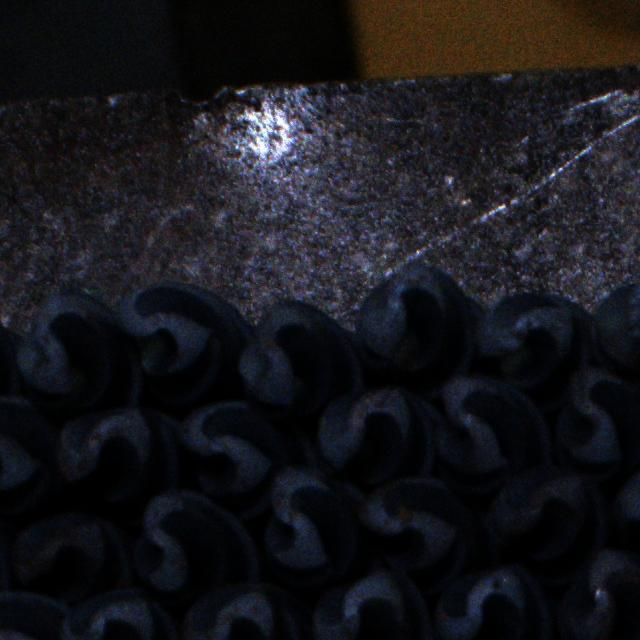tool_b: (115, 279, 258, 406), (354, 262, 482, 400), (7, 289, 142, 412), (178, 399, 314, 517), (56, 406, 185, 527), (130, 484, 258, 604), (238, 298, 362, 419), (262, 464, 381, 590), (356, 476, 481, 594), (432, 372, 552, 494), (474, 290, 592, 414), (486, 465, 608, 584), (318, 386, 446, 484), (11, 508, 134, 602), (551, 364, 640, 482), (436, 561, 554, 640), (310, 568, 433, 640), (182, 582, 319, 640), (0, 394, 65, 516), (556, 548, 640, 640), (59, 586, 180, 640)
